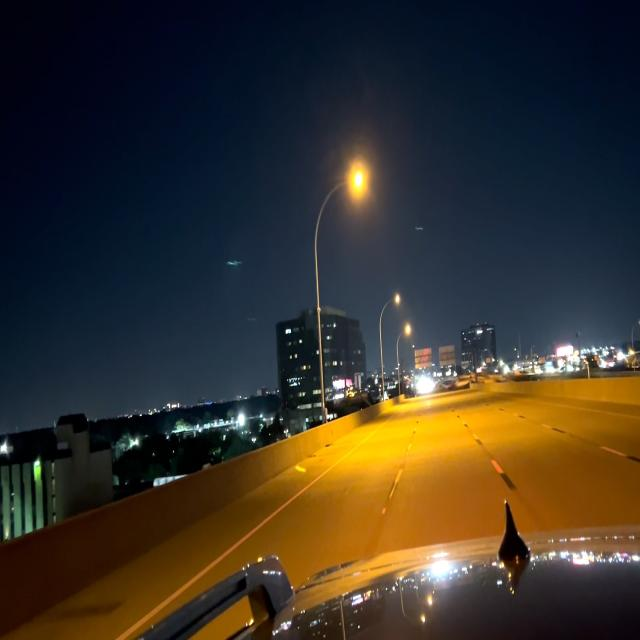back-of-sign: (413, 346, 433, 372), (439, 345, 457, 371)
